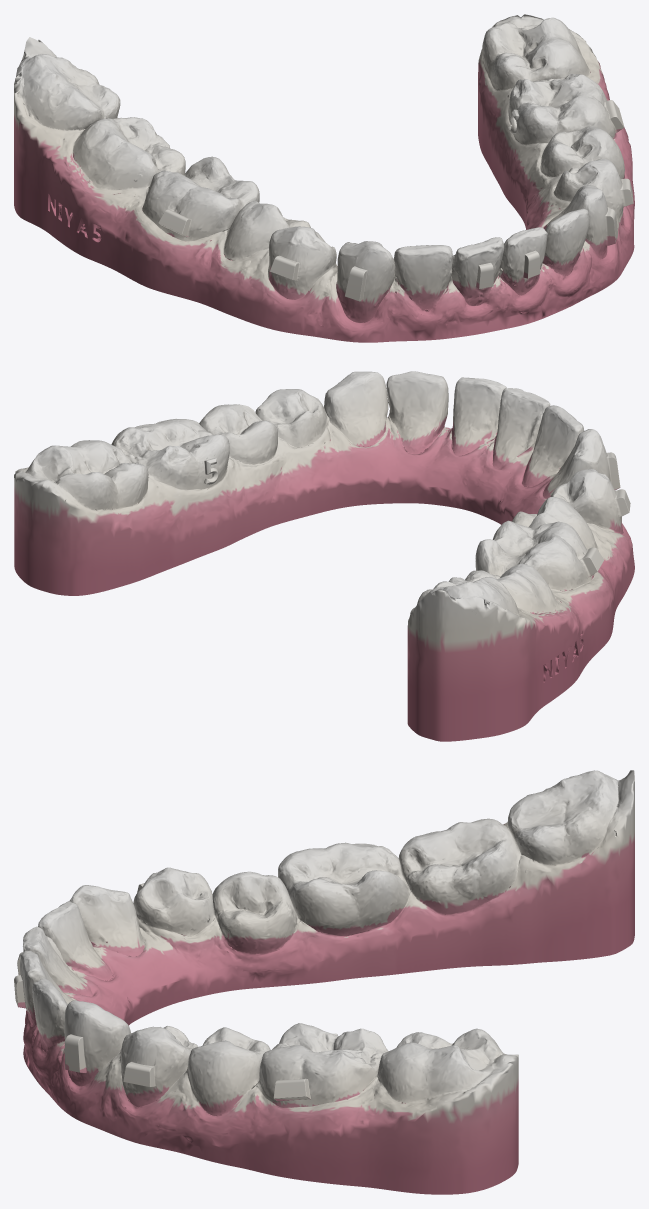
Rendered from Niya Priority Lower jaw - 05 - Model.glb.
3 views of the same model, one above another, from view 1: azimuth 30°, elevation 25°; view 2: azimuth 150°, elevation 25°; view 3: azimuth 270°, elevation 25° (orthographic). The views are drawn at different scales.
Visible parts, largest first — view 1: Niya Priority Lower jaw - 05 - Model; view 2: Niya Priority Lower jaw - 05 - Model; view 3: Niya Priority Lower jaw - 05 - Model.
Part boxes in pixels (x1=…): Niya Priority Lower jaw - 05 - Model: x1=14, y1=14, x2=634, y2=342; Niya Priority Lower jaw - 05 - Model: x1=14, y1=371, x2=634, y2=741; Niya Priority Lower jaw - 05 - Model: x1=14, y1=770, x2=634, y2=1194.
Bounding box in the file's own units: 62.72 × 16.53 × 57.42.
